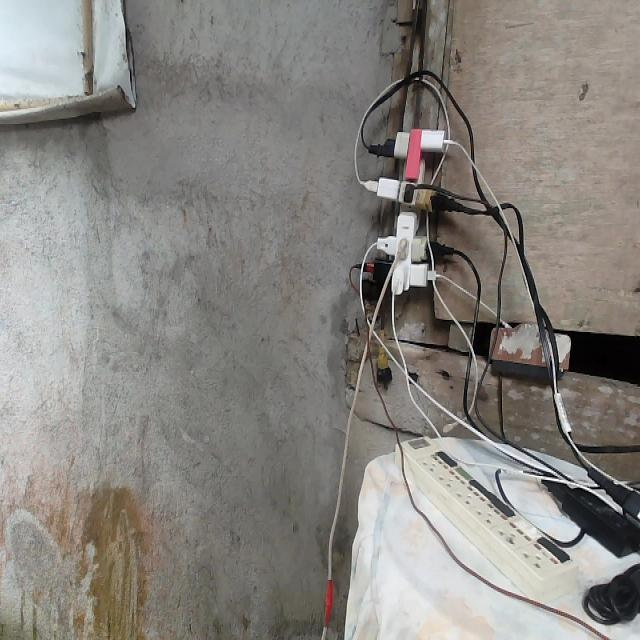-: (357, 129, 456, 292)
